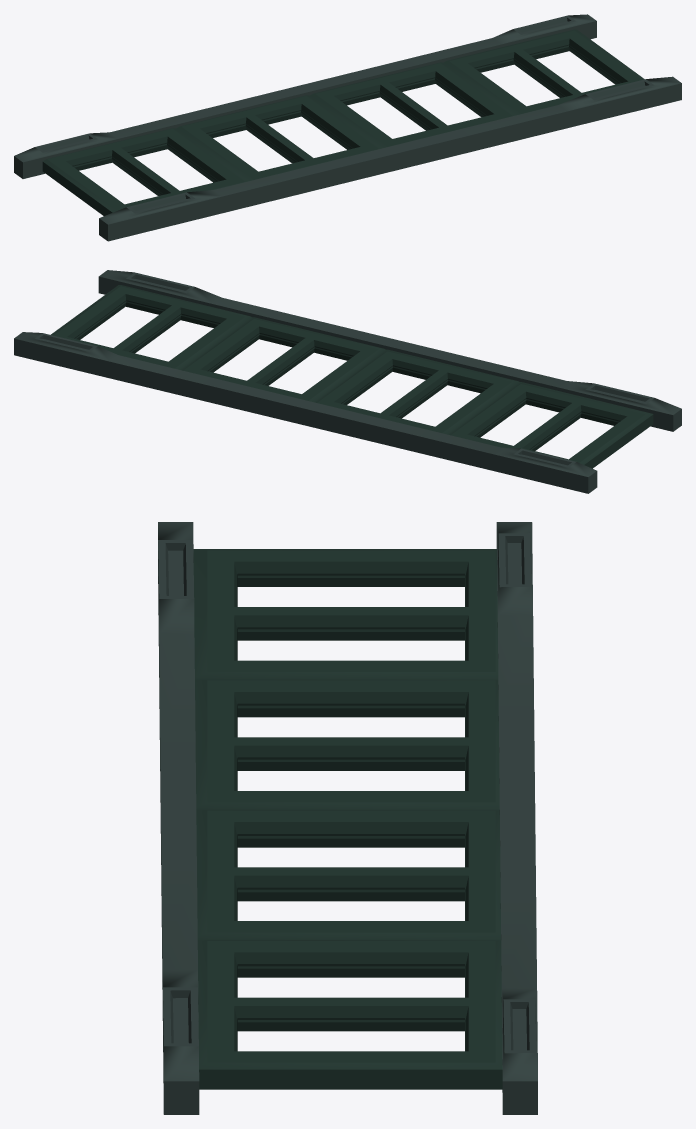
The model's file is Ladder.fbx.
The picture shows the model from 3 angles, top to bottom: view 1: azimuth 30°, elevation 25°; view 2: azimuth 150°, elevation 25°; view 3: azimuth 270°, elevation 25°; orthographic projection. The views are drawn at different scales.
Parts seen in each view (by area): view 1: Box010, Box012, Box011; view 2: Box010, Box011, Box012; view 3: Box010, Box012, Box011.
Part boxes in pixels (box(x1,y1,x2,y2)): Box010: box(42, 29, 644, 215); Box012: box(99, 76, 681, 241); Box011: box(14, 14, 596, 178); Box010: box(51, 285, 653, 468); Box011: box(14, 332, 597, 493); Box012: box(98, 270, 681, 431); Box010: box(193, 549, 502, 1089); Box012: box(158, 522, 199, 1114); Box011: box(496, 522, 537, 1114).
Bounding box in the file's own units: 84.03 × 2.95 × 24.15.
